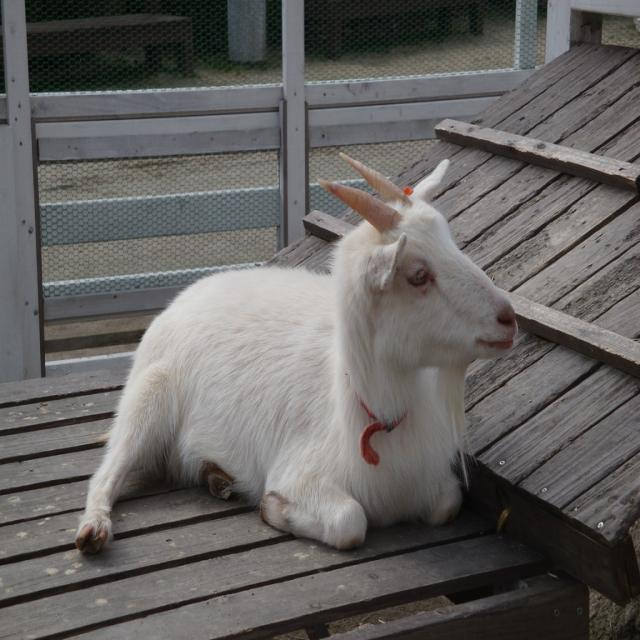not_pig: (74, 150, 518, 555)
